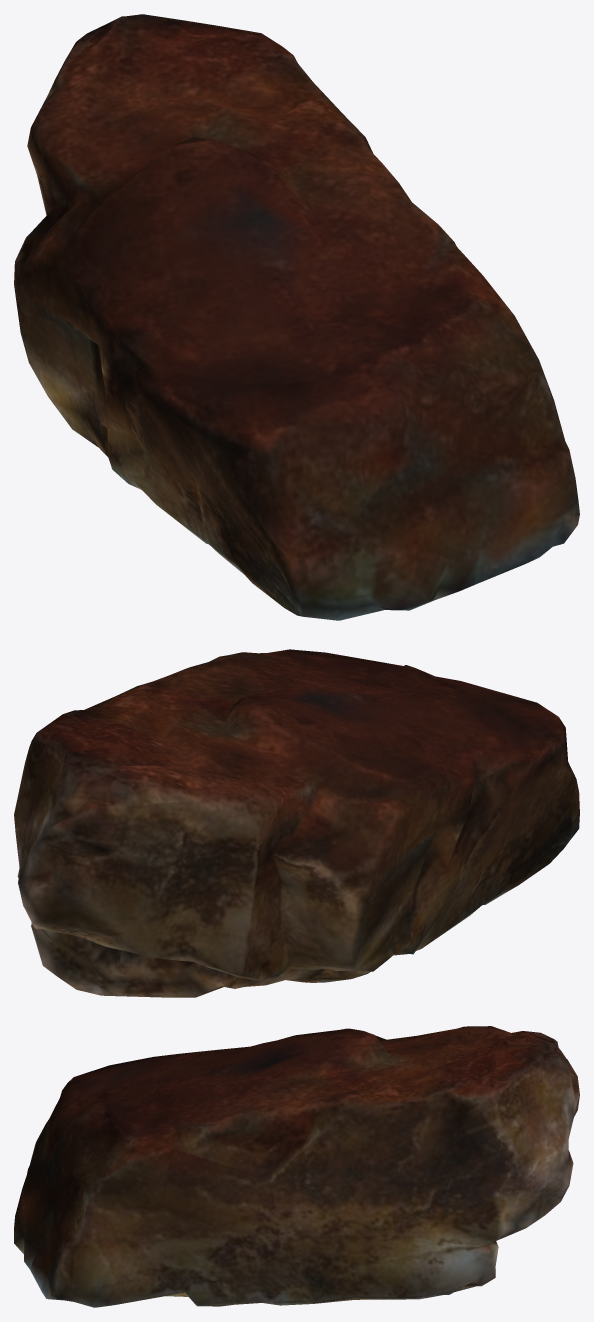
The model's file is rocher3.glb.
3 views of the same model, one above another, from view 1: azimuth 30°, elevation 25°; view 2: azimuth 150°, elevation 25°; view 3: azimuth 270°, elevation 25° (orthographic). The views are drawn at different scales.
Parts seen in each view (by area): view 1: rock_07; view 2: rock_07; view 3: rock_07.
Boxes of the visible parts, x1,y1,x2,y2 form: rock_07: [14, 14, 579, 620]; rock_07: [14, 649, 579, 997]; rock_07: [14, 1026, 579, 1307].
Bounding box in the file's own units: 0.167 × 0.1434 × 0.3194.
Materials: 1 (1 with a texture image).
